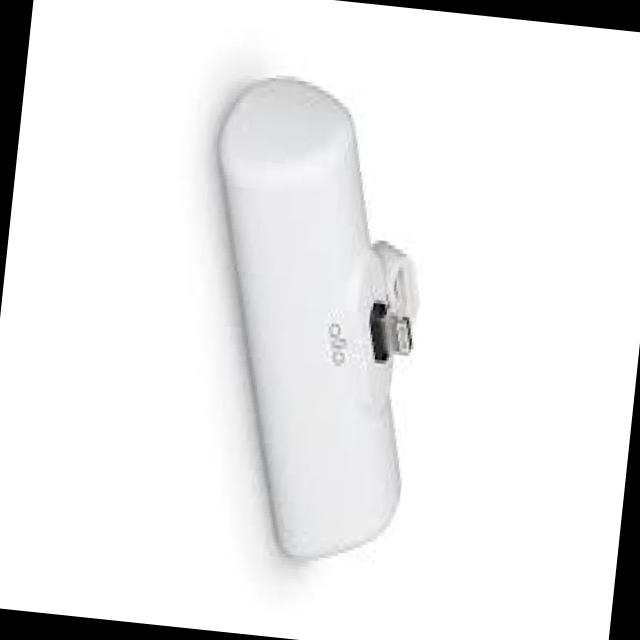power_bank: (167, 57, 450, 589)
